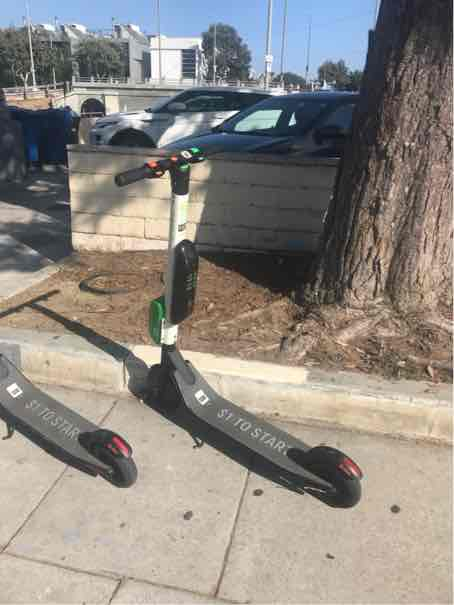scooter: (119, 125, 367, 508)
